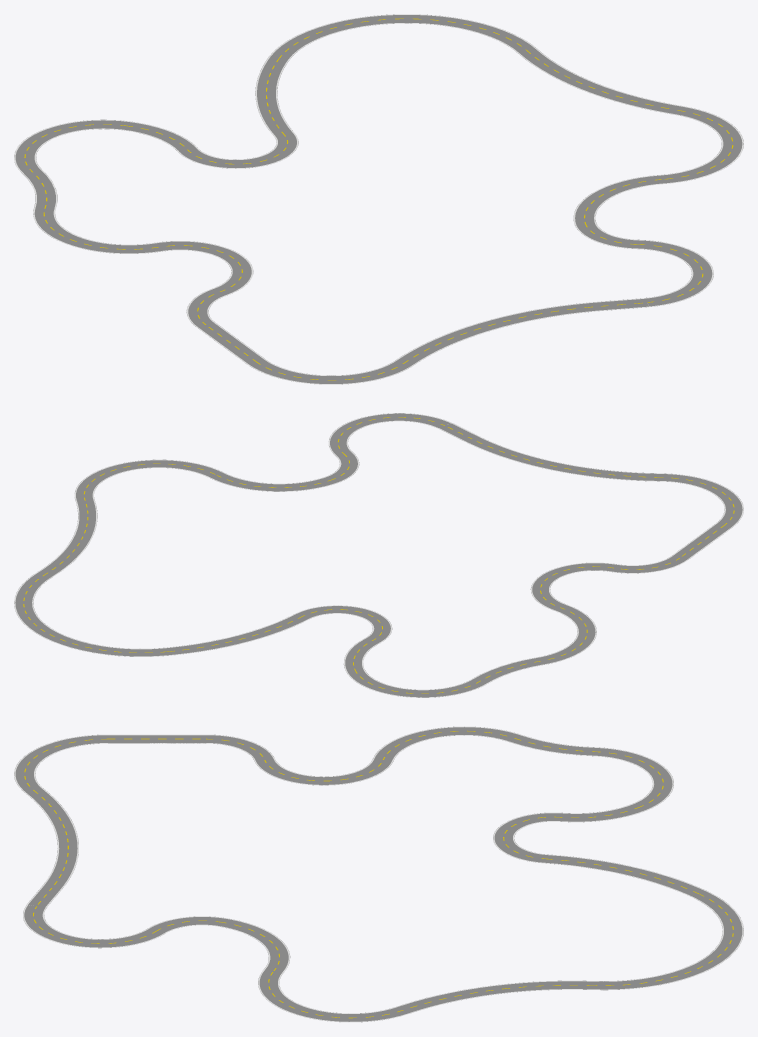
The model's file is track14.fbx.
The picture shows the model from 3 angles, top to bottom: view 1: azimuth 30°, elevation 25°; view 2: azimuth 150°, elevation 25°; view 3: azimuth 270°, elevation 25°; orthographic projection. The views are drawn at different scales.
Visible parts, largest first — view 1: road_arc_110, road_arc_120, road_arc_112, road_arc_111, road_arc_115, road_arc_109, road_arc_105, road_arc_116, road_arc_103, road_arc_102, road_arc_108, road_arc_113 (+5 smaller); view 2: road_arc_110, road_arc_120, road_arc_112, road_arc_111, road_arc_115, road_arc_109, road_arc_105, road_arc_116, road_arc_103, road_arc_102, road_arc_108, road_arc_113 (+5 smaller); view 3: road_arc_110, road_arc_120, road_arc_112, road_arc_111, road_arc_115, road_arc_109, road_arc_105, road_arc_103, road_arc_116, road_arc_102, road_arc_108, road_arc_113 (+5 smaller).
Part boxes in pixels (left/top/right/bottom): road_arc_110: left=269, top=14, right=536, bottom=59; road_arc_120: left=395, top=301, right=602, bottom=365; road_arc_112: left=660, top=106, right=743, bottom=183; road_arc_111: left=518, top=49, right=682, bottom=114; road_arc_115: left=637, top=239, right=713, bottom=306; road_arc_109: left=255, top=57, right=294, bottom=136; road_arc_105: left=14, top=119, right=128, bottom=173; road_arc_116: left=247, top=359, right=413, bottom=384; road_arc_103: left=33, top=207, right=162, bottom=253; road_arc_102: left=155, top=241, right=253, bottom=295; road_arc_108: left=178, top=133, right=298, bottom=168; road_arc_113: left=573, top=175, right=663, bottom=224; road_arc_110: left=14, top=572, right=168, bottom=656; road_arc_120: left=465, top=436, right=660, bottom=481; road_arc_112: left=74, top=459, right=223, bottom=500; road_arc_111: left=37, top=499, right=97, bottom=577; road_arc_115: left=328, top=413, right=451, bottom=455; road_arc_109: left=165, top=614, right=309, bottom=655; road_arc_105: left=346, top=670, right=487, bottom=697; road_arc_116: left=660, top=473, right=743, bottom=527; road_arc_103: left=536, top=604, right=596, bottom=664; road_arc_102: left=530, top=562, right=616, bottom=610; road_arc_108: left=295, top=605, right=392, bottom=643; road_arc_113: left=210, top=472, right=336, bottom=491; road_arc_110: left=593, top=891, right=743, bottom=990; road_arc_120: left=25, top=789, right=78, bottom=889; road_arc_112: left=258, top=969, right=408, bottom=1022; road_arc_111: left=396, top=980, right=594, bottom=1013; road_arc_115: left=23, top=905, right=164, bottom=948; road_arc_109: left=544, top=854, right=706, bottom=896; road_arc_105: left=593, top=747, right=673, bottom=810; road_arc_103: left=373, top=726, right=521, bottom=760; road_arc_116: left=14, top=734, right=108, bottom=792; road_arc_102: left=254, top=759, right=393, bottom=785; road_arc_108: left=493, top=812, right=562, bottom=863; road_arc_113: left=218, top=918, right=290, bottom=972.
Bounding box in the file's own units: 24623 × 0.0122 × 25663.
